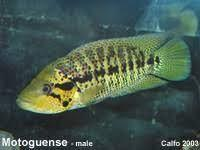Jaguar Gapote: (16, 27, 193, 116)
